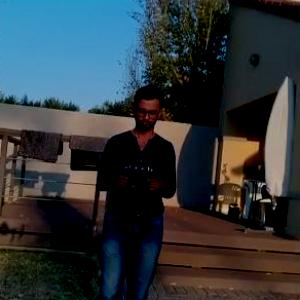follow: (90, 79, 182, 299)
